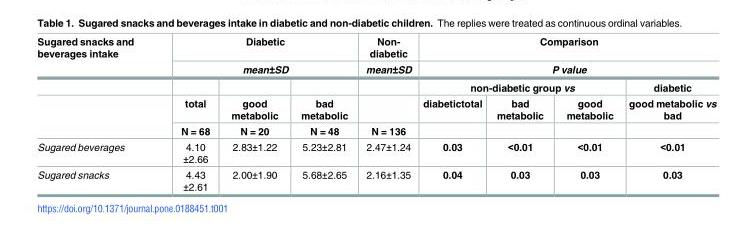table: (36, 36, 715, 191)
table column: (36, 36, 156, 191), (620, 36, 715, 191), (416, 36, 488, 191), (219, 36, 288, 191), (288, 36, 356, 191), (488, 36, 554, 191), (554, 36, 620, 191), (156, 36, 219, 191), (356, 36, 416, 191)
table column header: (36, 36, 715, 138)
table row: (36, 95, 715, 123), (36, 138, 715, 166), (36, 36, 715, 61), (36, 166, 715, 191), (36, 61, 715, 78), (36, 78, 715, 95), (36, 123, 715, 138)
table spanning cell: (416, 36, 715, 78), (36, 36, 156, 138), (156, 36, 356, 78), (356, 36, 416, 138), (620, 78, 715, 138), (219, 78, 288, 138), (288, 78, 356, 138), (156, 78, 219, 138), (416, 78, 620, 95), (416, 95, 488, 138), (488, 95, 554, 138), (554, 95, 620, 138)
